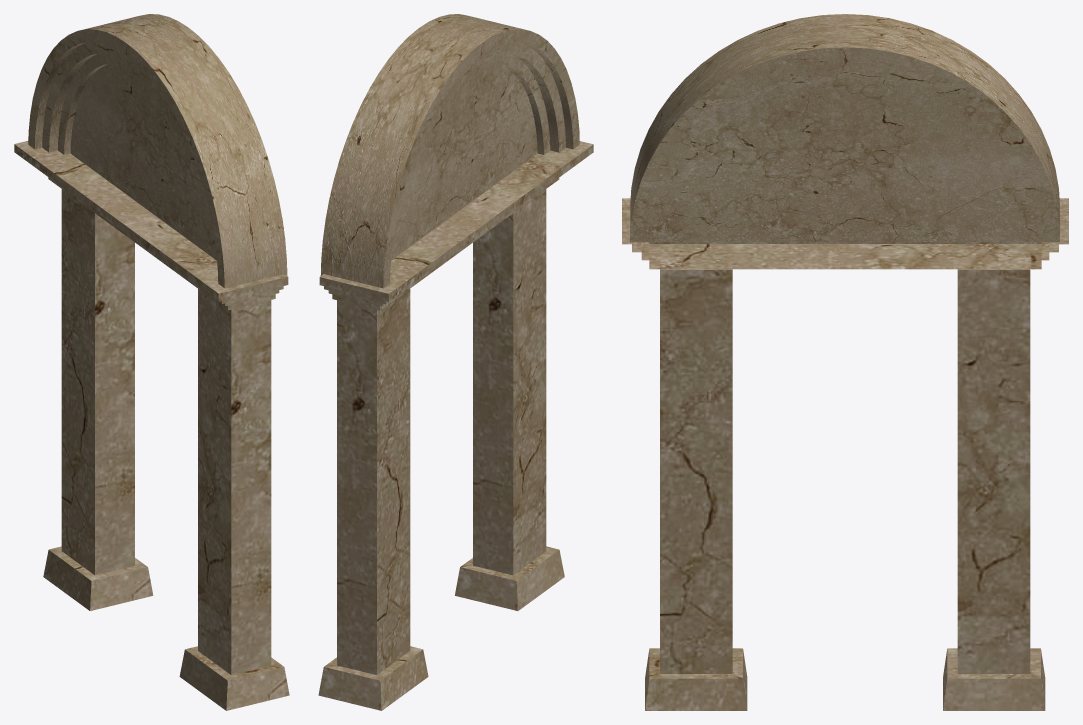
Rendered from pasted__door18.fbx.
3 views of the same model, side by side, from view 1: azimuth 30°, elevation 25°; view 2: azimuth 150°, elevation 25°; view 3: azimuth 270°, elevation 25° (orthographic). The views are drawn at different scales.
Visible parts, largest first — view 1: pasted__Node_1341, pasted__stone_column_516, pasted__stone_column_515, pasted__stone_column_517; view 2: pasted__Node_1341, pasted__stone_column_515, pasted__stone_column_516, pasted__stone_column_517; view 3: pasted__Node_1341, pasted__stone_column_515, pasted__stone_column_516, pasted__stone_column_517.
Part boxes in pixels (left/top/right/bottom): pasted__Node_1341: left=28, top=14, right=287, bottom=288; pasted__stone_column_516: left=179, top=289, right=289, bottom=710; pasted__stone_column_515: left=43, top=189, right=153, bottom=610; pasted__stone_column_517: left=14, top=141, right=288, bottom=310; pasted__Node_1341: left=320, top=14, right=579, bottom=288; pasted__stone_column_515: left=318, top=289, right=428, bottom=710; pasted__stone_column_516: left=455, top=189, right=564, bottom=610; pasted__stone_column_517: left=319, top=141, right=593, bottom=310; pasted__Node_1341: left=630, top=14, right=1059, bottom=242; pasted__stone_column_515: left=943, top=269, right=1045, bottom=710; pasted__stone_column_516: left=645, top=269, right=747, bottom=710; pasted__stone_column_517: left=622, top=198, right=1068, bottom=269.
Bounding box in the file's own units: 14.54 × 63.16 × 103.
